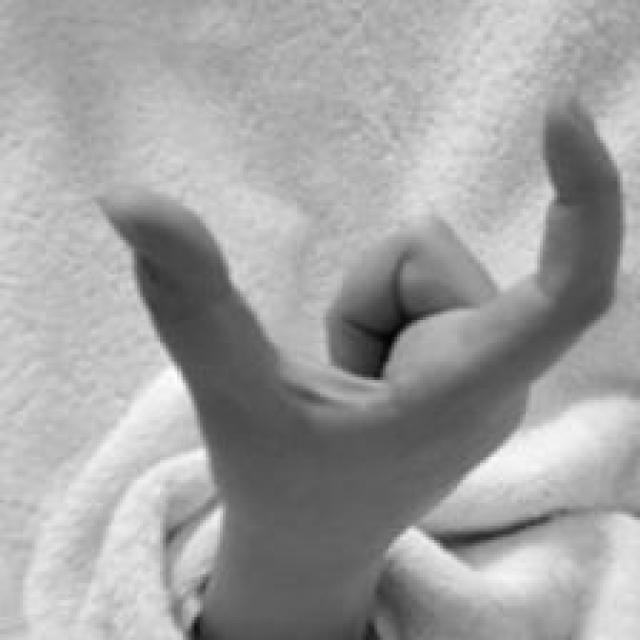U: (87, 80, 626, 522)
